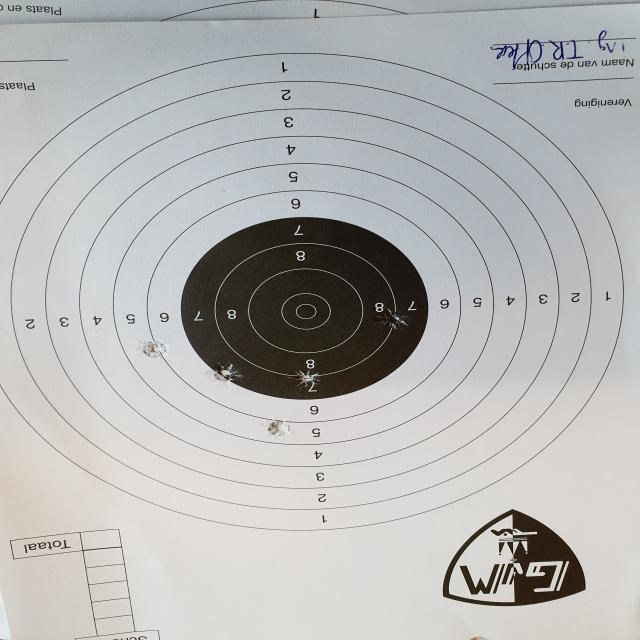6: (138, 339, 170, 360), (262, 417, 294, 438)
7: (211, 361, 241, 383)
8: (375, 307, 410, 334), (295, 371, 323, 390)
Target: (0, 52, 625, 531)
black_contour: (182, 216, 428, 400)
